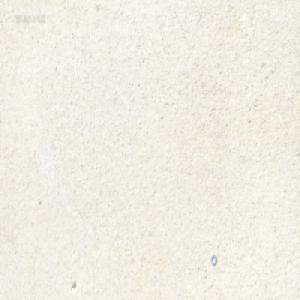Washer: (210, 254, 216, 265)
